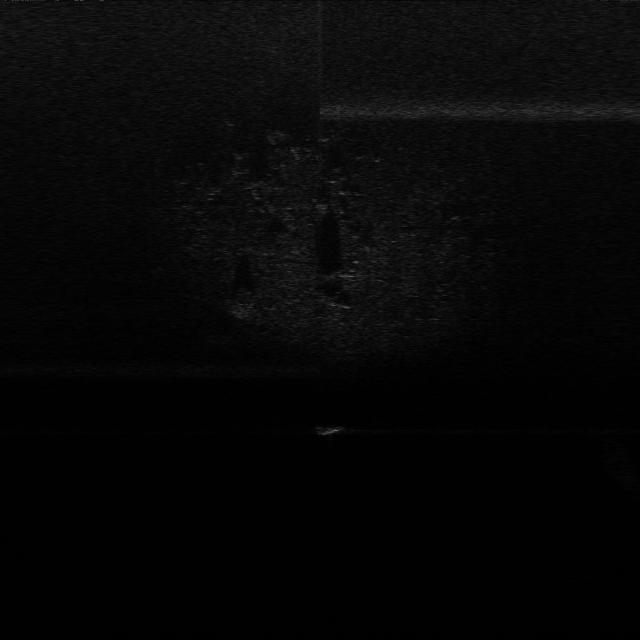square cage: (312, 410, 347, 443)
